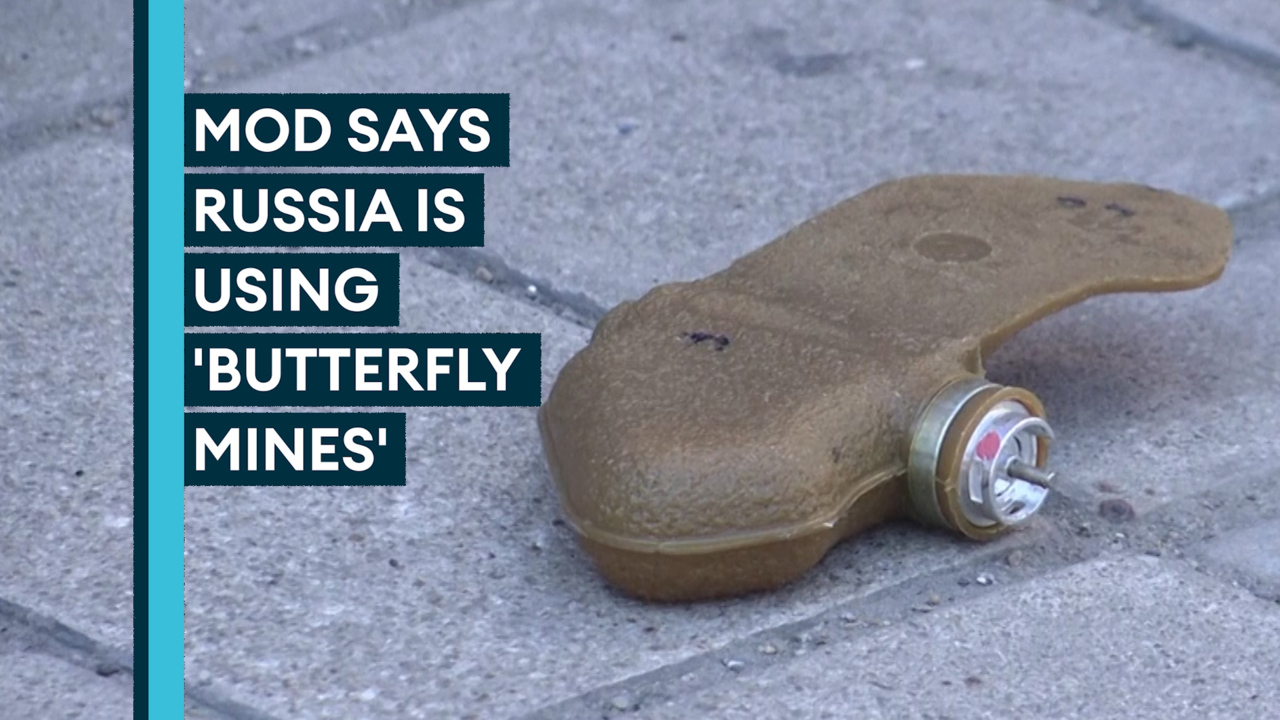butterfly: (545, 159, 1256, 614)
